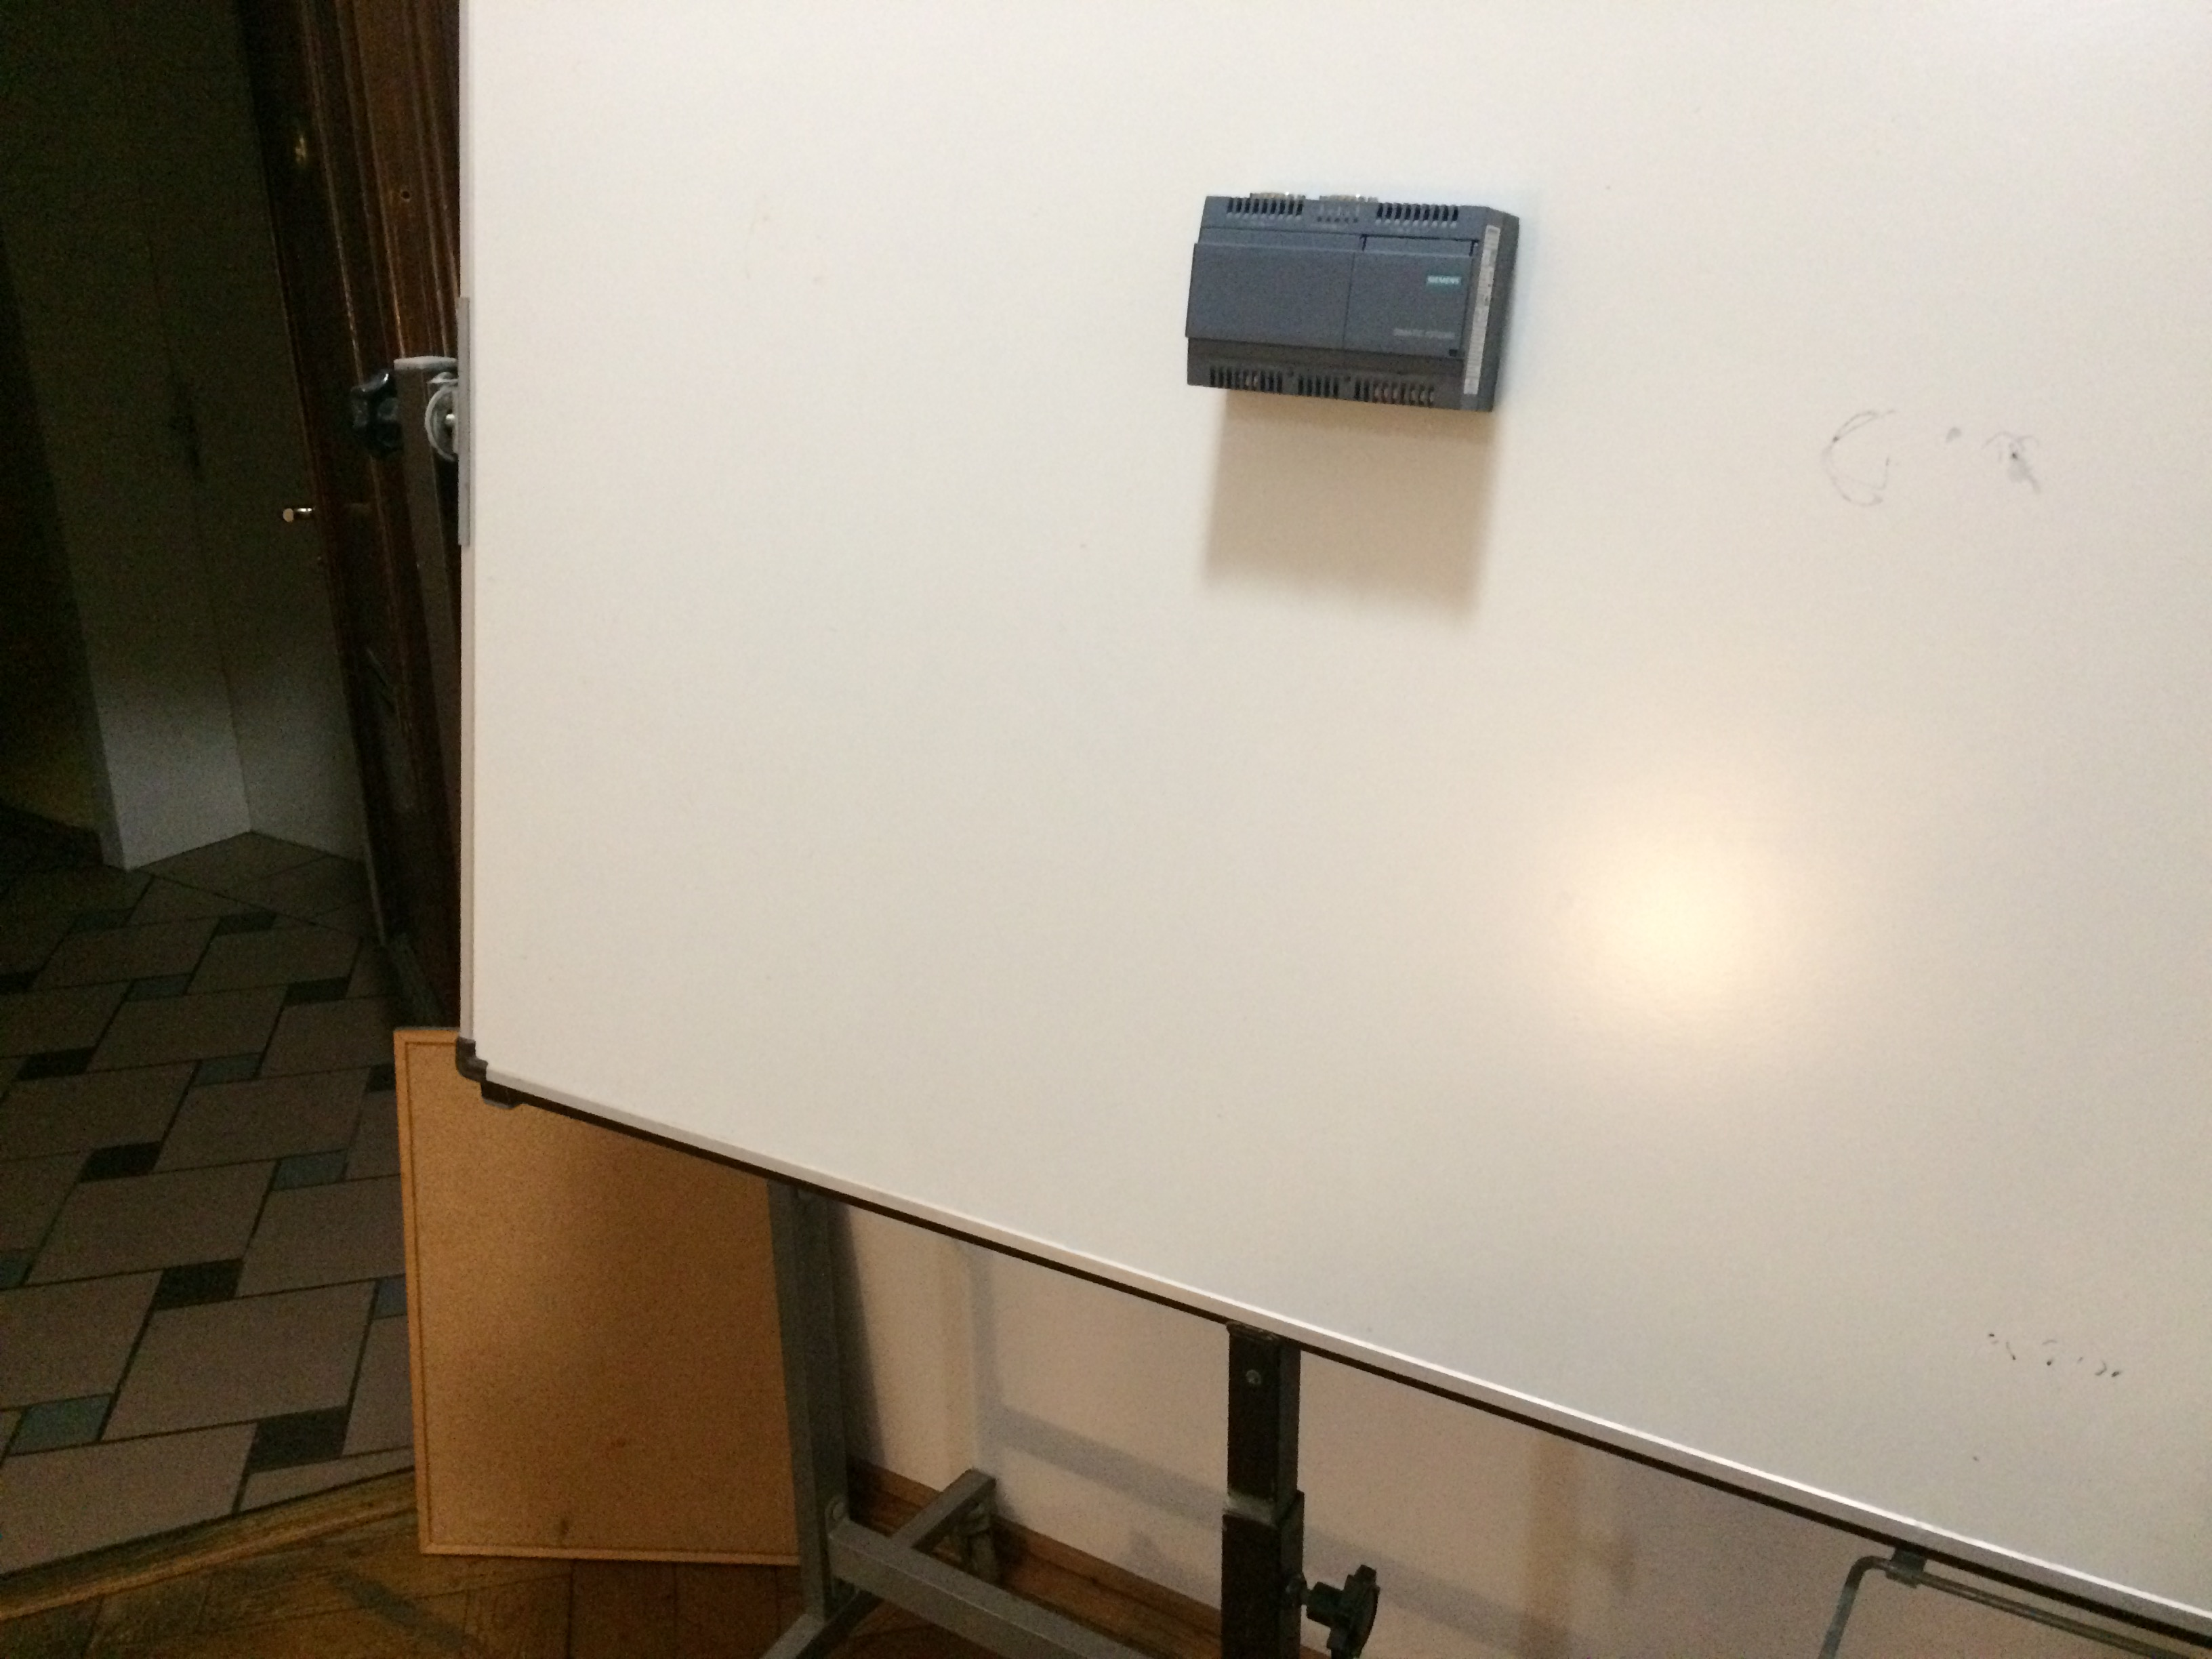iot2000: (1179, 188, 1524, 418)
